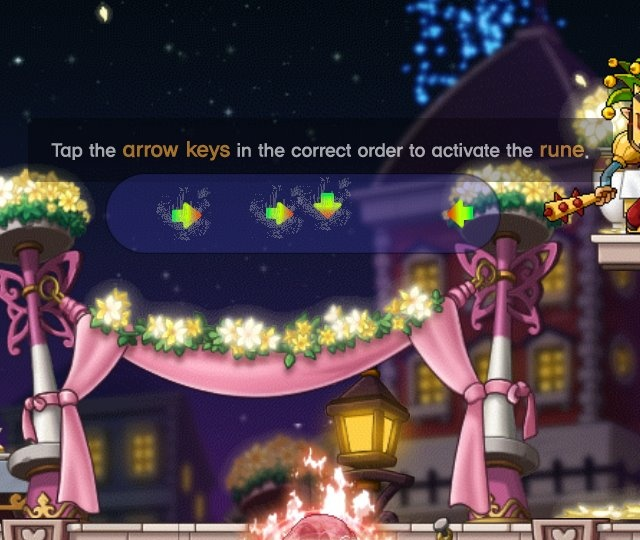rune_box: (95, 164, 511, 260)
